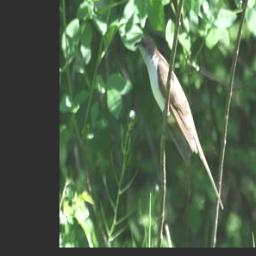Cuckoo: (134, 34, 225, 212)
